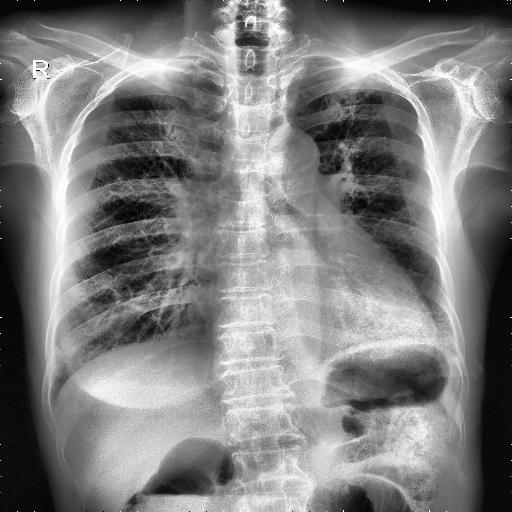0- Aortic enlargement: (263, 123, 320, 183), (250, 125, 317, 174)
11- Pleural thickening: (118, 54, 218, 78), (340, 61, 402, 88), (116, 64, 188, 86), (284, 55, 324, 84)
3- Cardiomegaly: (211, 276, 439, 348), (212, 292, 440, 360), (202, 294, 438, 352), (263, 124, 317, 198)
